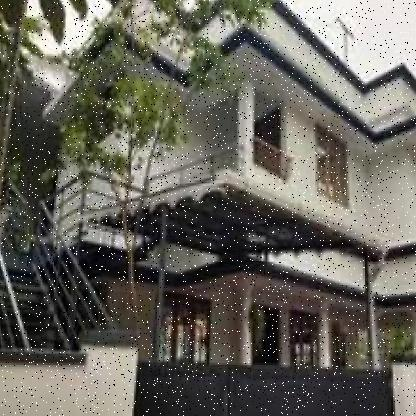stair_up: (0, 252, 107, 347)
